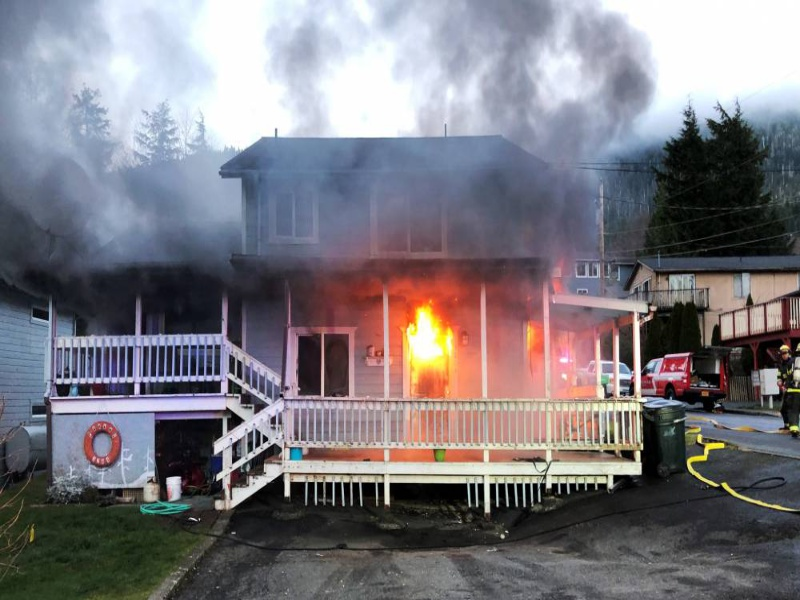fire: (404, 299, 455, 398)
